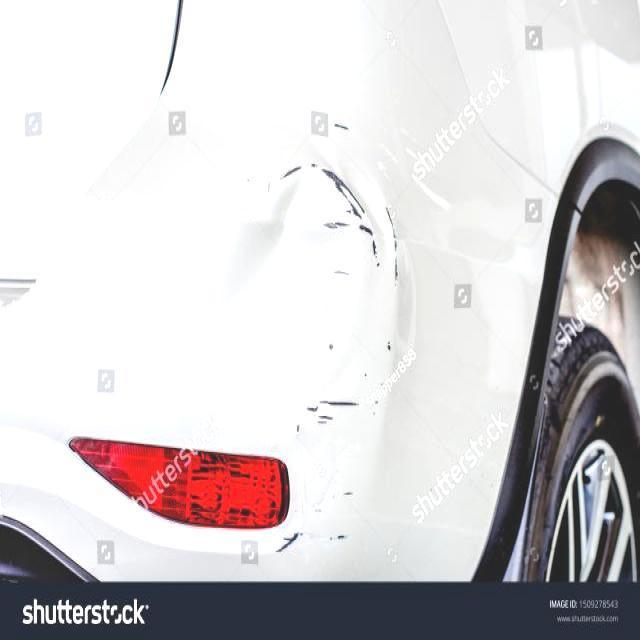minor: (276, 532, 304, 555), (331, 120, 353, 135), (315, 415, 333, 428), (346, 493, 352, 503)
moderate: (198, 165, 401, 411), (332, 532, 346, 543)
